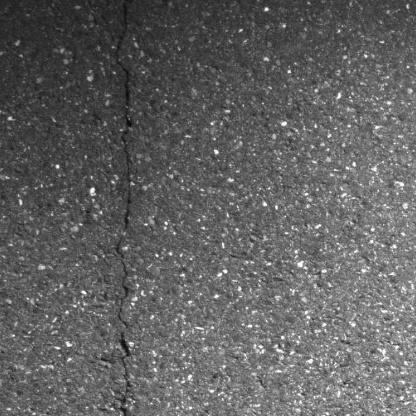Cracks: (110, 0, 138, 416)
